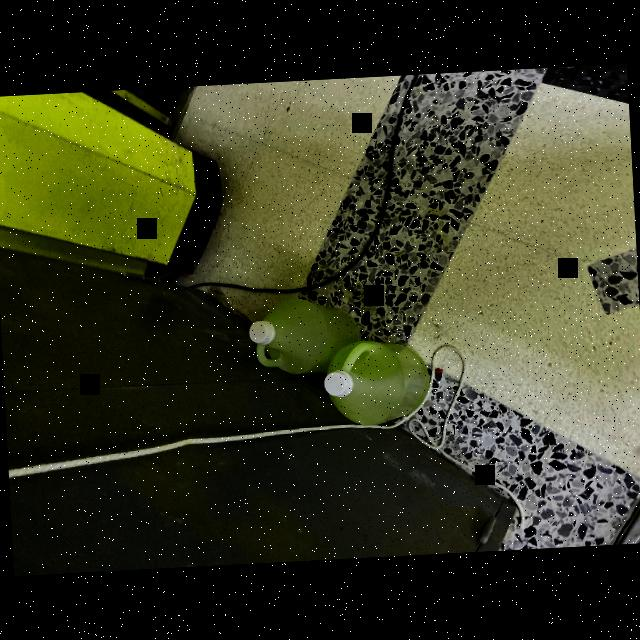chemical_plastic_gallon: (298, 331, 451, 439), (231, 275, 369, 375)
